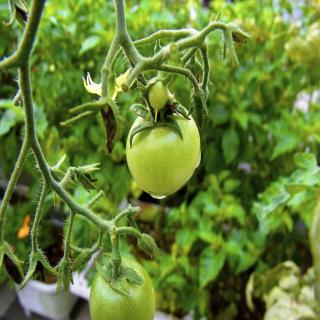tomato: (125, 83, 201, 198), (90, 257, 157, 319)
